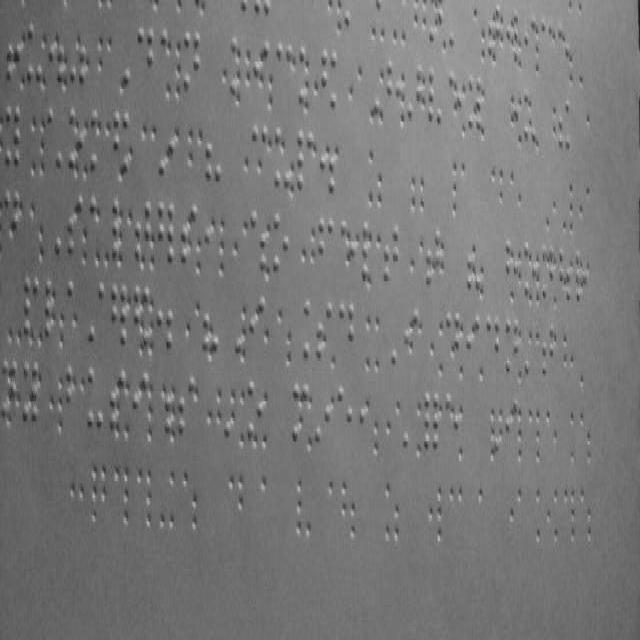braiile: (182, 24, 202, 96), (136, 21, 154, 95), (294, 128, 314, 192), (86, 364, 104, 432), (275, 40, 293, 107), (177, 371, 195, 438), (26, 18, 44, 84), (336, 383, 354, 448), (338, 300, 356, 362), (382, 224, 400, 284), (22, 274, 40, 334), (385, 58, 401, 124), (4, 106, 20, 170), (245, 379, 262, 439), (134, 198, 150, 260), (318, 216, 334, 276), (97, 281, 113, 341), (504, 314, 520, 374), (485, 316, 501, 374), (540, 321, 554, 377)
